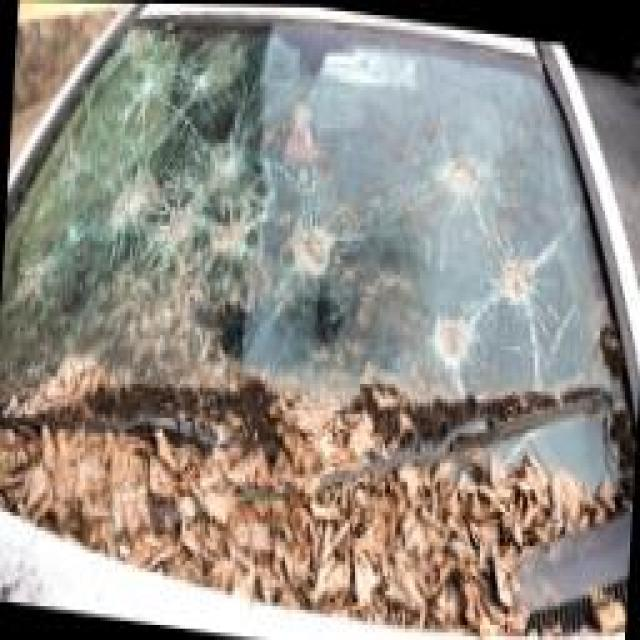Windshield: (0, 14, 628, 597)
